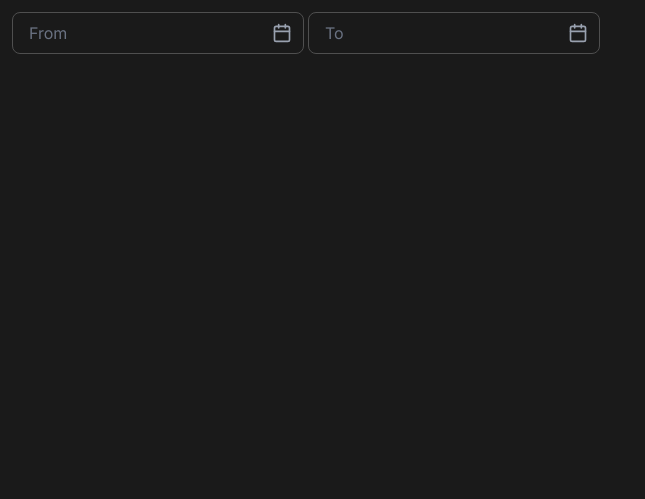
it: DateRangePicker Component › Calendar Interaction › should open to calendar independently
Click the field with placeholder "To" at (454, 33), box [308, 12, 600, 54]
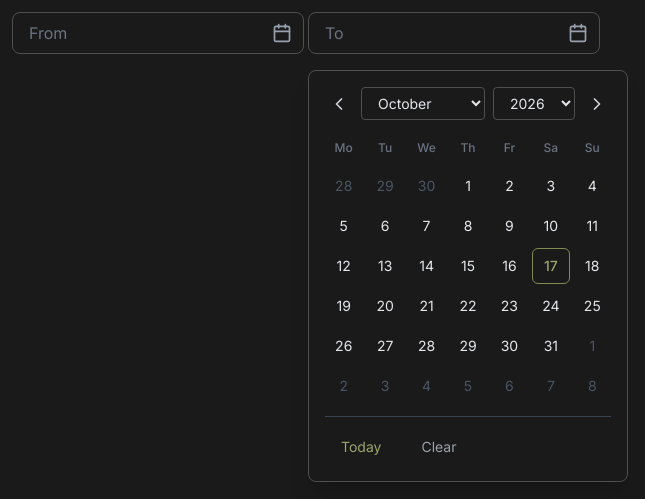
Expected: the text "Mo" is shown, [335, 140, 353, 155]
